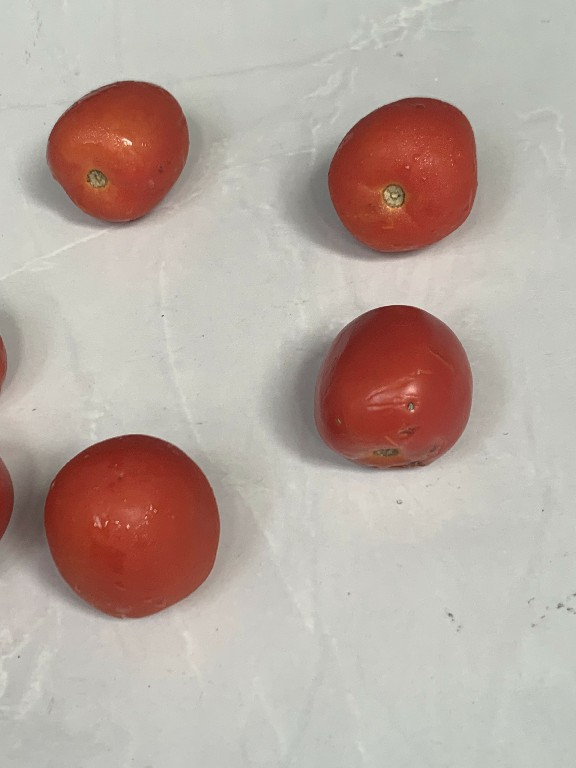NG: (312, 298, 478, 491)
OK: (42, 427, 225, 615), (317, 92, 482, 260), (42, 66, 207, 220)
